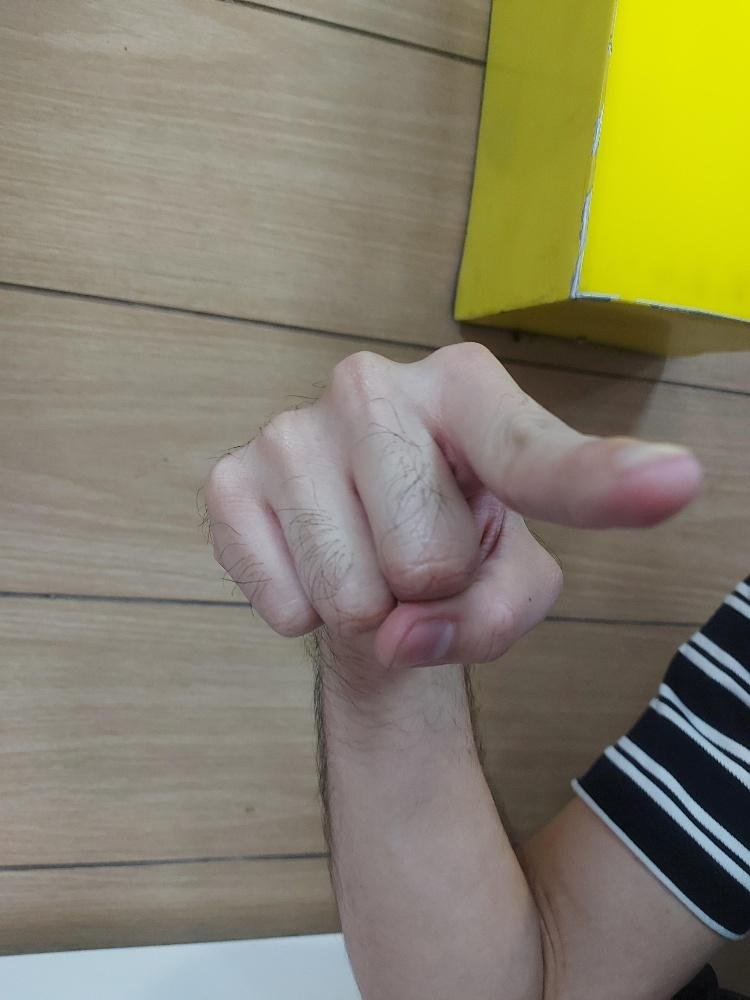z: (200, 336, 706, 673)
